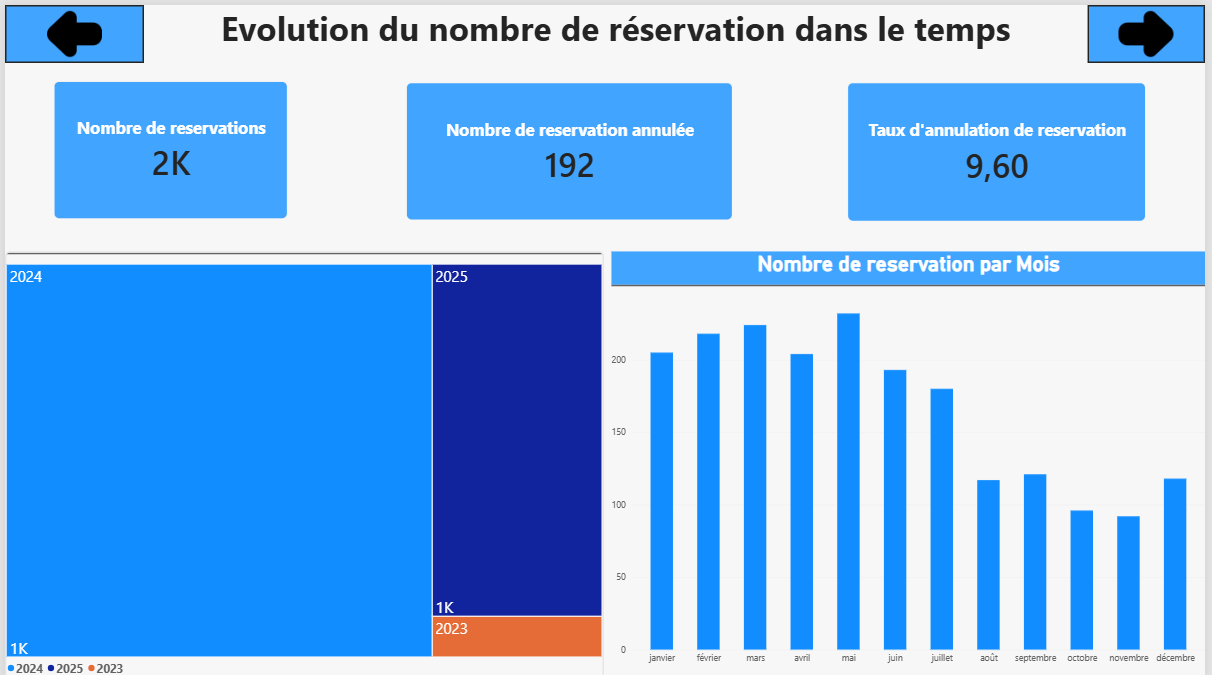

Layout of this report page (visuals, bound fields, positions):
{"tool":"powerbi","page":{"name":"Evolution","canvas":[1920,1080],"ordinal":1},"visuals":[{"type":"treemap","fields":{"Group":["public reservations.date_reservation.Variation.Hiérarchie de dates.Année"],"Values":["public reservations.Nombre de reservations"]},"box":[0,393.3,958.8,688],"z":0},{"type":"clusteredColumnChart","title":"Nombre de reservation par Mois","fields":{"Category":["public reservations.date_reservation.Variation.Hiérarchie de dates.Mois"],"Y":["CountNonNull(public reservations.reservation_id)"]},"box":[969.3,393.1,951.5,666],"z":1000},{"type":"image","box":[1732.1,0,187.9,92.7],"z":2000},{"type":"image","box":[0,0,222,92.7],"z":3000},{"type":"textbox","box":[222.3,0,1510.5,92.6],"z":4000},{"type":"cardVisual","fields":{"Data":["public reservations.Nombre de reservations"]},"box":[78.2,121.4,374.5,220.2],"z":5000},{"type":"cardVisual","fields":{"Data":["public reservations.Nombre de reservation annulée"]},"box":[642.1,123.5,522.7,220.2],"z":6000},{"type":"cardVisual","fields":{"Data":["public reservations.Taux d'annulation de reservation"]},"box":[1347.9,123.5,477.4,222.3],"z":7000}]}

Visuals, with their boxes in screenshot pixels (x1, y1, x2, y2), scaled from the page's 1920x1080 canvas onto the 1212x675 screenshot:
treemap - public reservations.date_reservation.Variation.Hiérarchie de dates.Année x public reservations.Nombre de reservations: x1=0 y1=246 x2=605 y2=674
"Nombre de reservation par Mois" clusteredColumnChart: x1=612 y1=246 x2=1211 y2=662
image: x1=1093 y1=0 x2=1211 y2=58
image: x1=0 y1=0 x2=140 y2=58
textbox: x1=140 y1=0 x2=1094 y2=58
cardVisual - public reservations.Nombre de reservations: x1=49 y1=76 x2=286 y2=214
cardVisual - public reservations.Nombre de reservation annulée: x1=405 y1=77 x2=735 y2=215
cardVisual - public reservations.Taux d'annulation de reservation: x1=851 y1=77 x2=1152 y2=216
